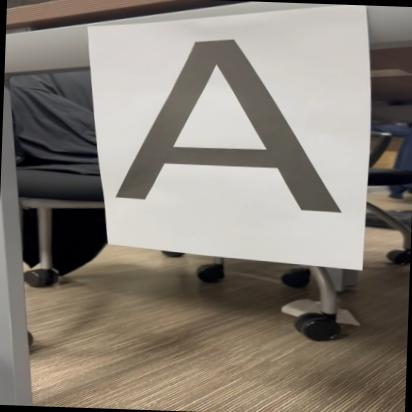seat: (98, 33, 357, 224)
